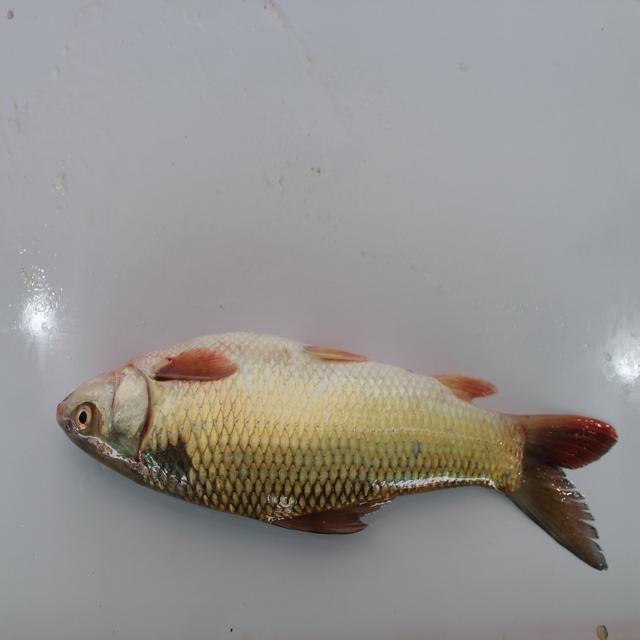Mori: (48, 327, 623, 590)
